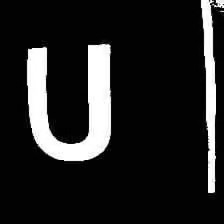LTR_U: (21, 35, 119, 167)
